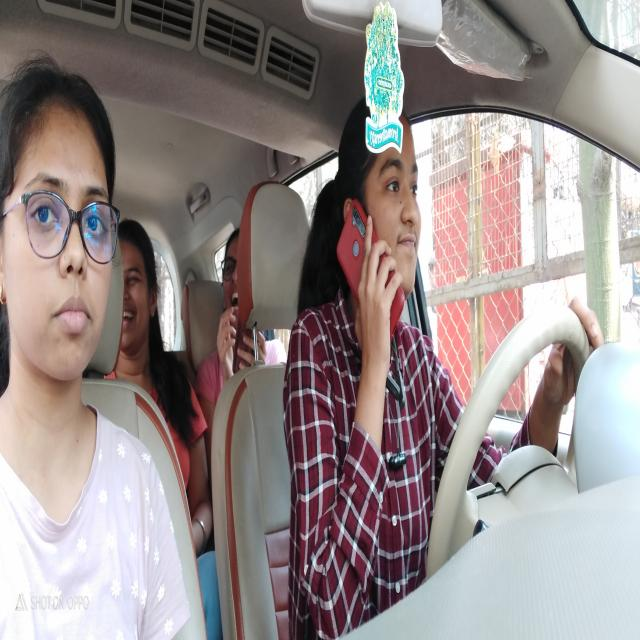mobile: (340, 208, 402, 331)
person: (2, 66, 117, 382), (339, 102, 425, 323), (119, 205, 155, 355), (222, 243, 252, 338)
